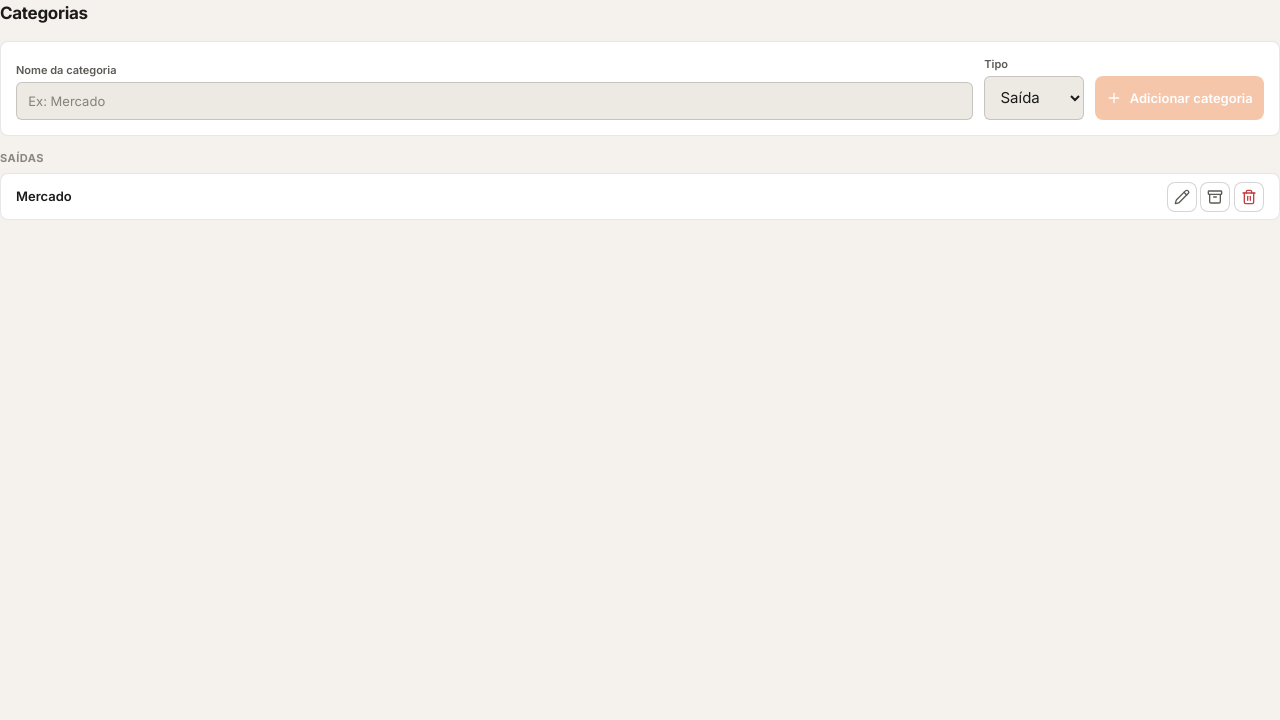
Test: FinanceCategoryManager › renames a category through the modal and closes it on success
Step 1. Click the button named "Renomear Mercado" → (1182, 196), box [1166,182,1196,212]
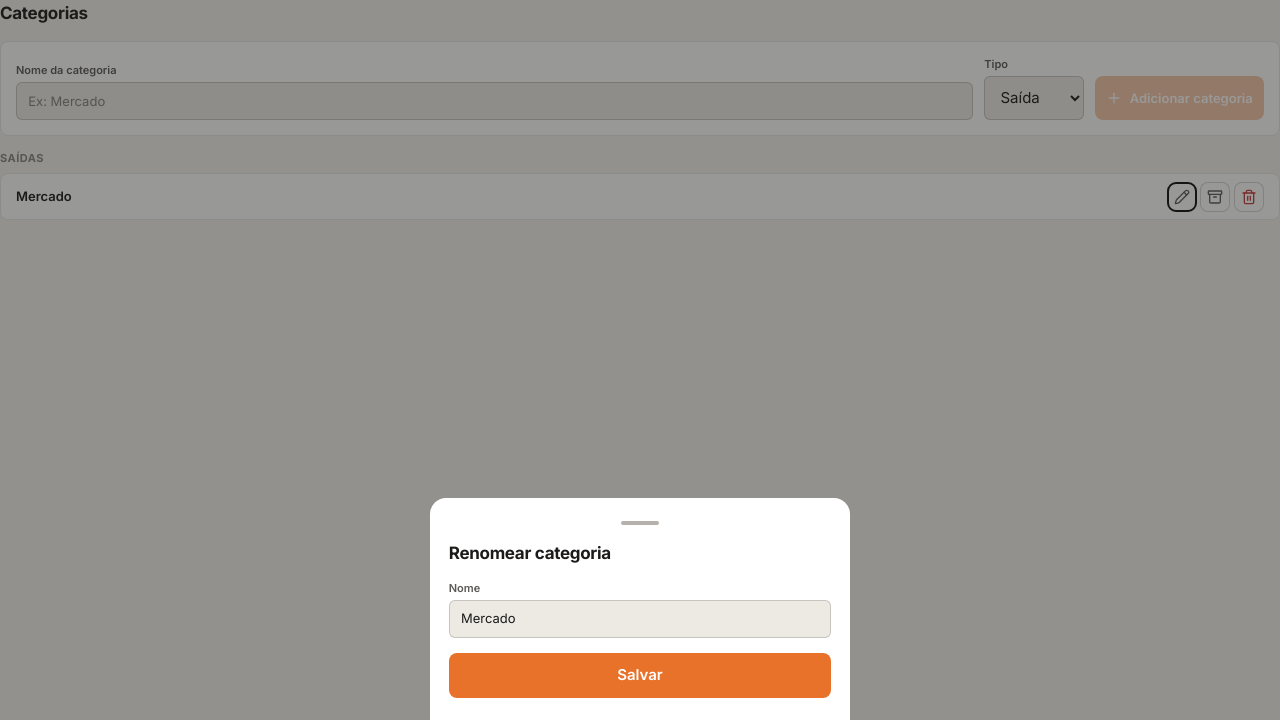
Expected: the field labelled "Nome" holds "Mercado"
Step 2. Replace the text in the field labelled "Nome" with "Feira" → (640, 618), box [449,600,831,638]
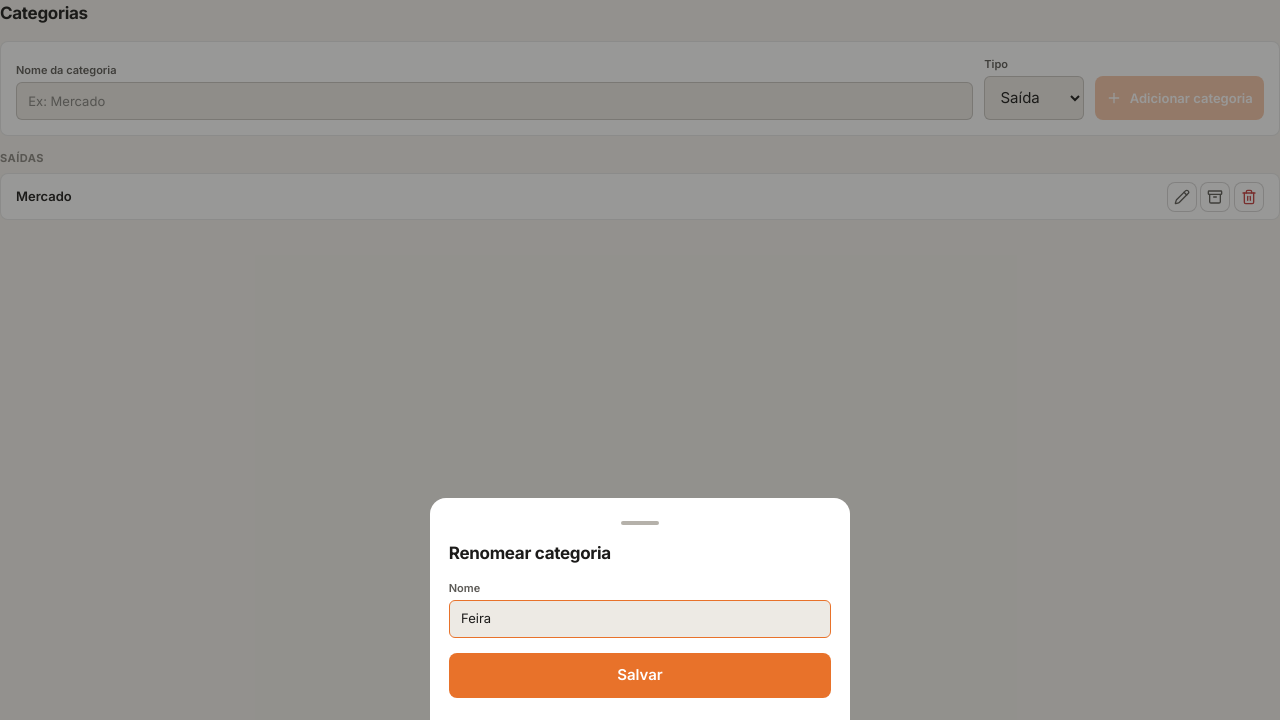
Step 3. Click the button "Salvar" → (640, 675), box [449,652,831,698]
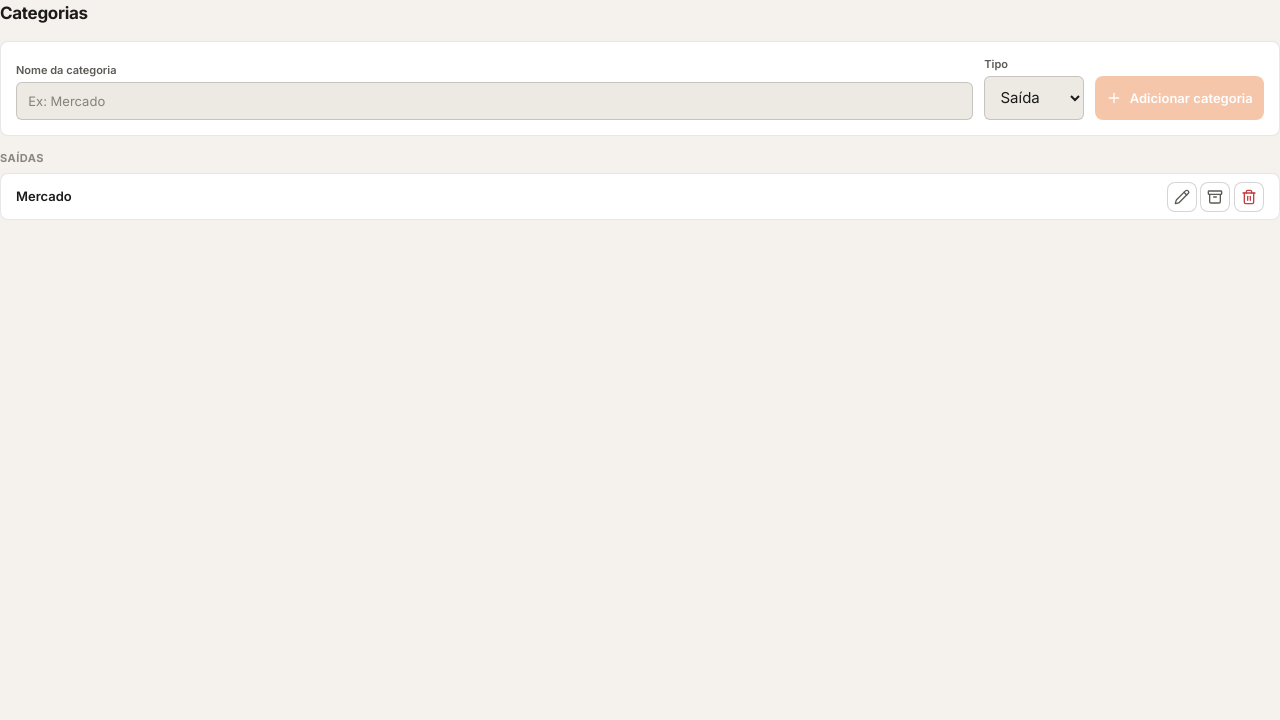
Expected: the dialog is gone
